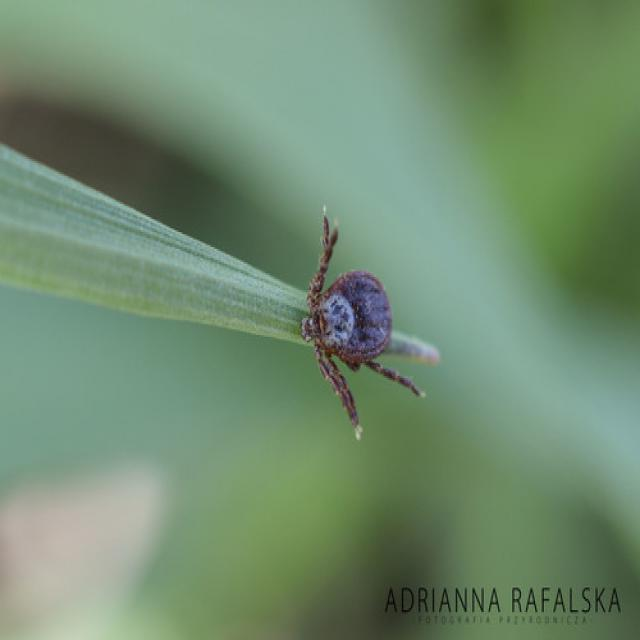Dermacentor Reticulatus-F: (301, 206, 425, 442)
